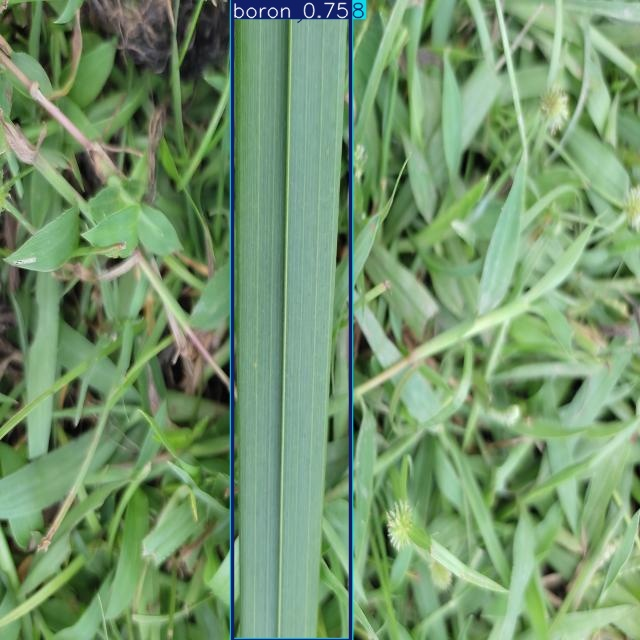Healthy: (231, 1, 351, 640)
nitrogen: (233, 0, 351, 640)
